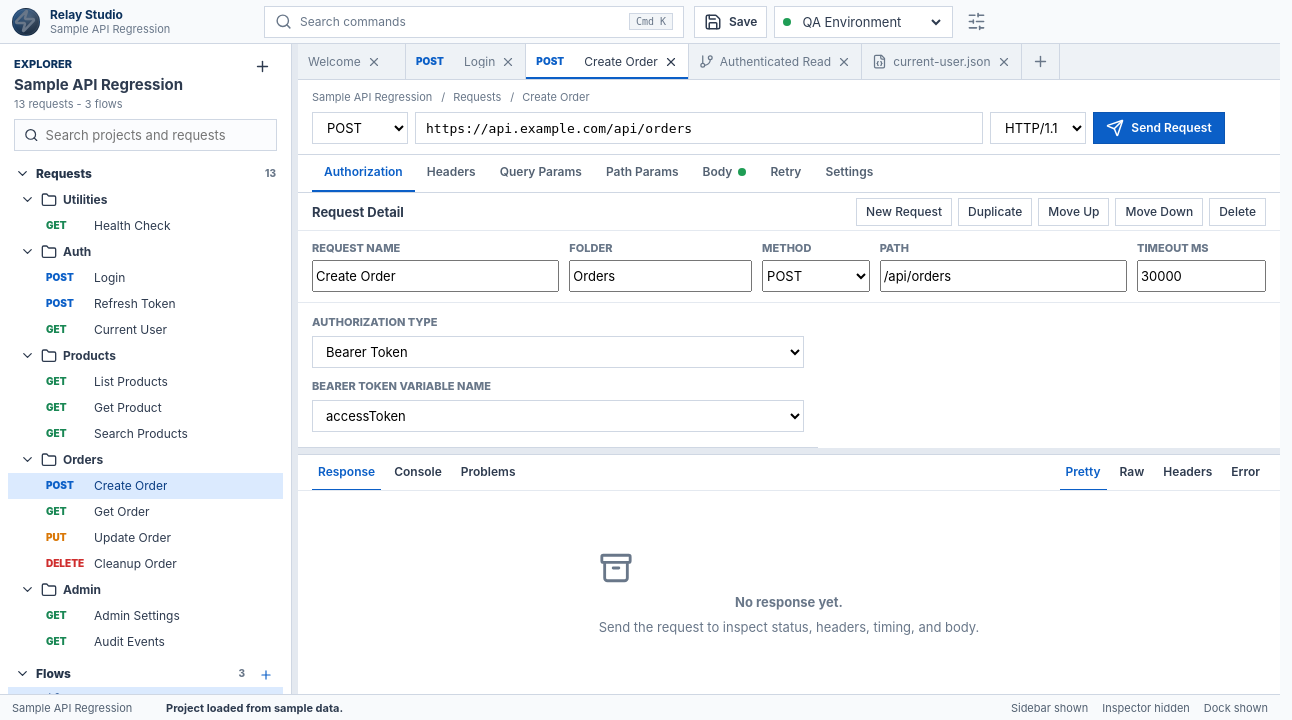
Scenario: Relay Studio shell › exposes keyboard-accessible pane resize handles
This screenshot has width=1292, height=720.
Check: the element named "Resize utility dock" is shown, box [298, 448, 1280, 454]
Press ArrowRight in the element named "Resize explorer", box [292, 44, 298, 694]
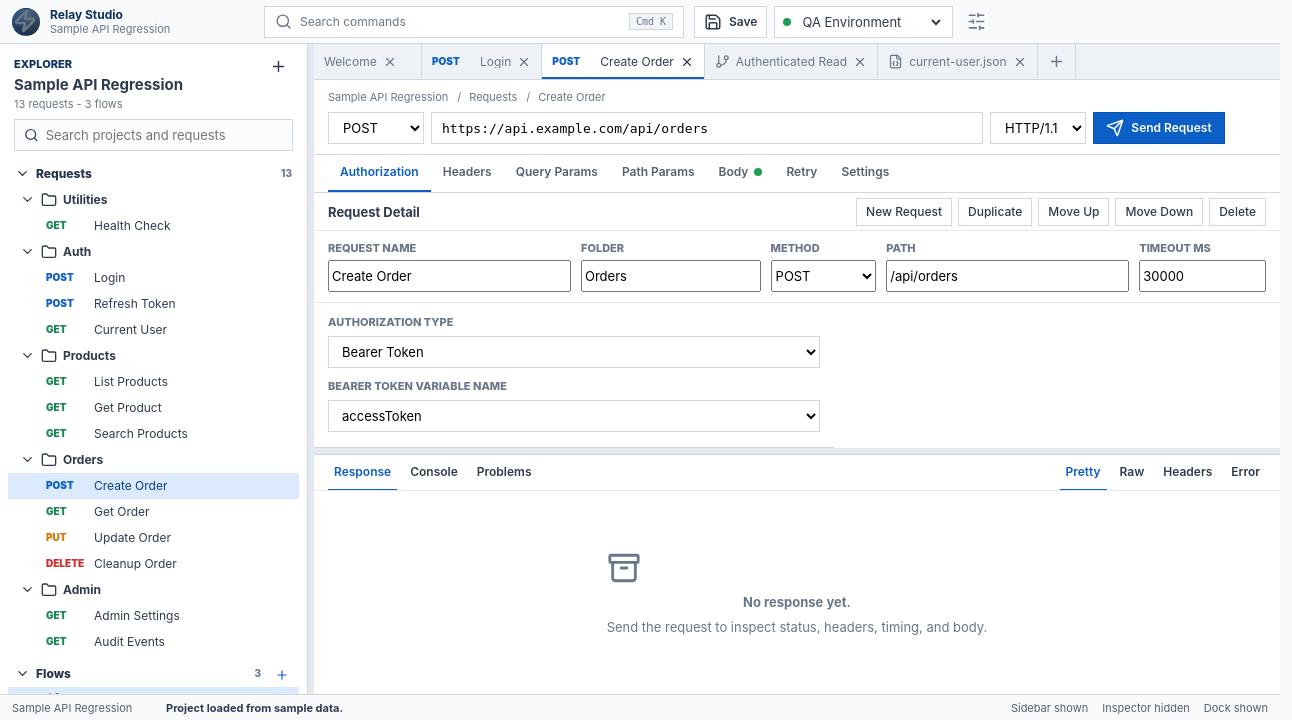
Click the button named "Show inspector": (976, 22) [960, 6, 992, 38]
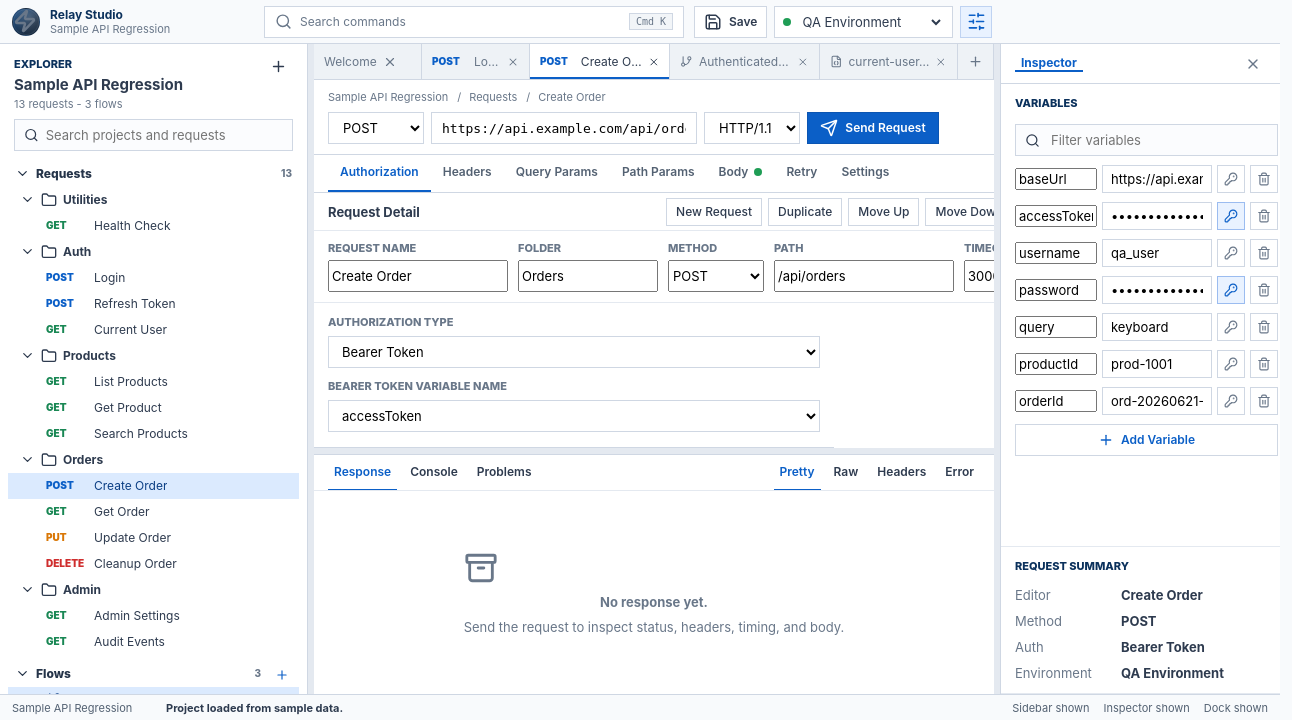
Check: the element named "Resize inspector" is shown, box [994, 44, 1000, 694]
